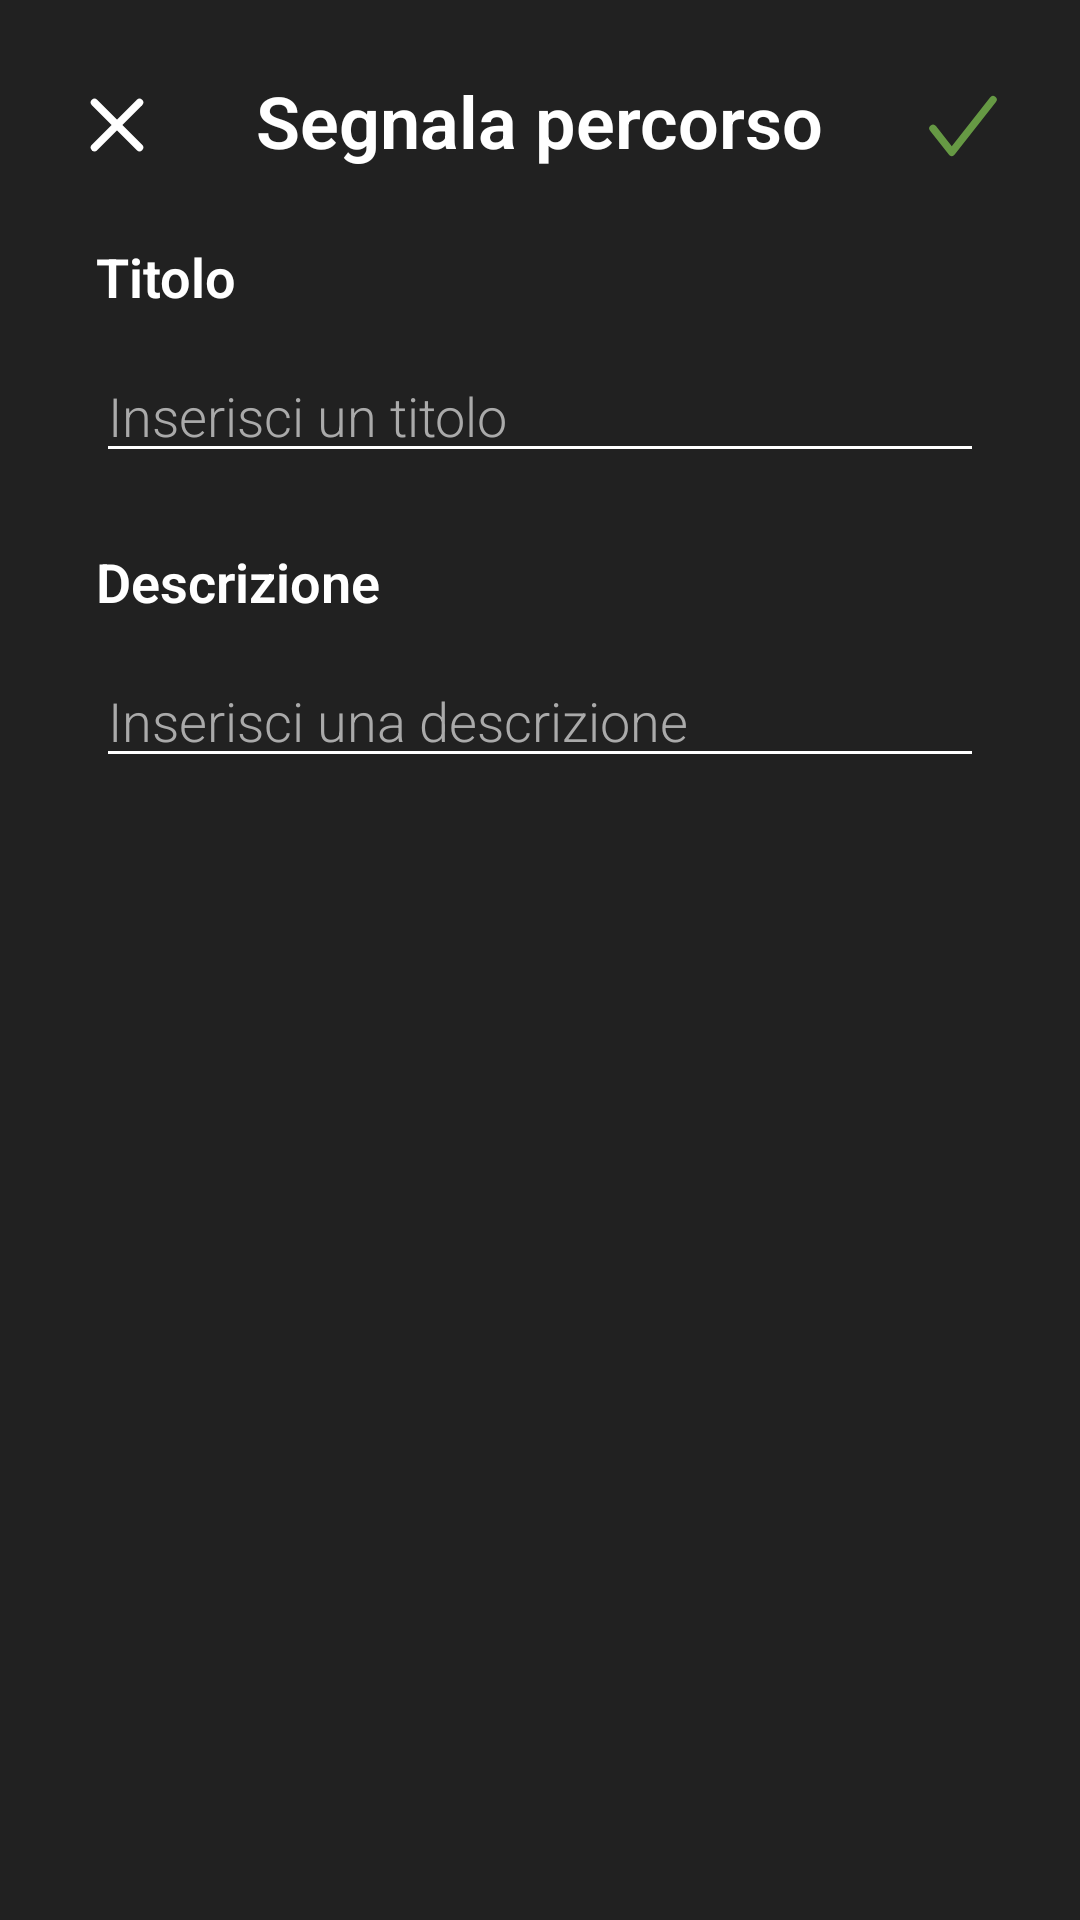

Where icons sit on this 1080px×1920px app screen, as Rect(x1, y1, x2, y2):
check: Rect(929, 96, 997, 156)
cross: Rect(90, 98, 144, 152)
